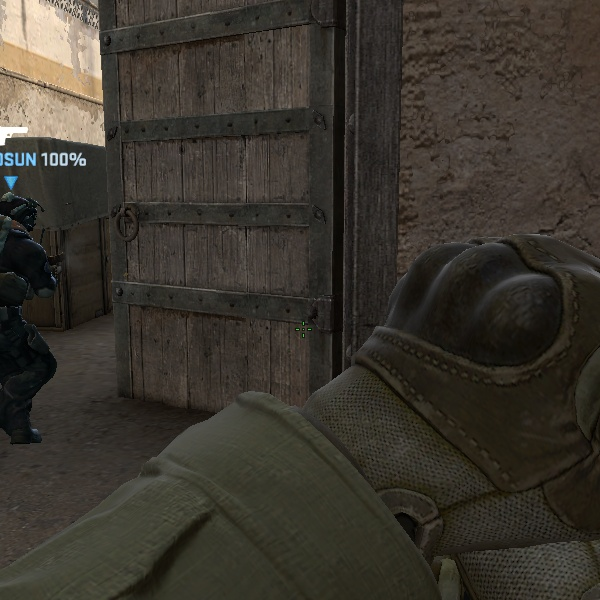ct_body: (2, 179, 84, 445)
ct_head: (0, 188, 40, 246)
